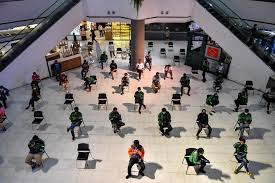mask: (237, 137, 246, 149), (107, 105, 118, 114), (130, 138, 138, 148), (196, 148, 204, 158), (31, 82, 38, 92), (31, 137, 39, 145), (70, 106, 78, 114), (160, 106, 168, 114), (243, 108, 250, 116), (154, 69, 159, 79), (200, 106, 206, 114), (123, 71, 129, 78), (136, 86, 142, 92), (32, 70, 37, 74)
